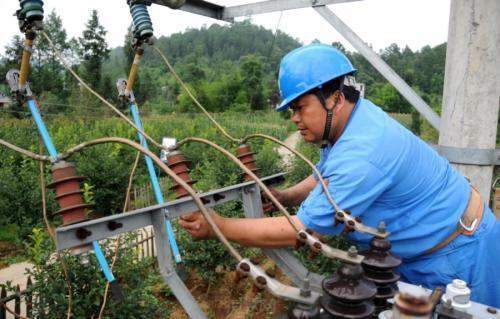helmet: (261, 34, 368, 145)
